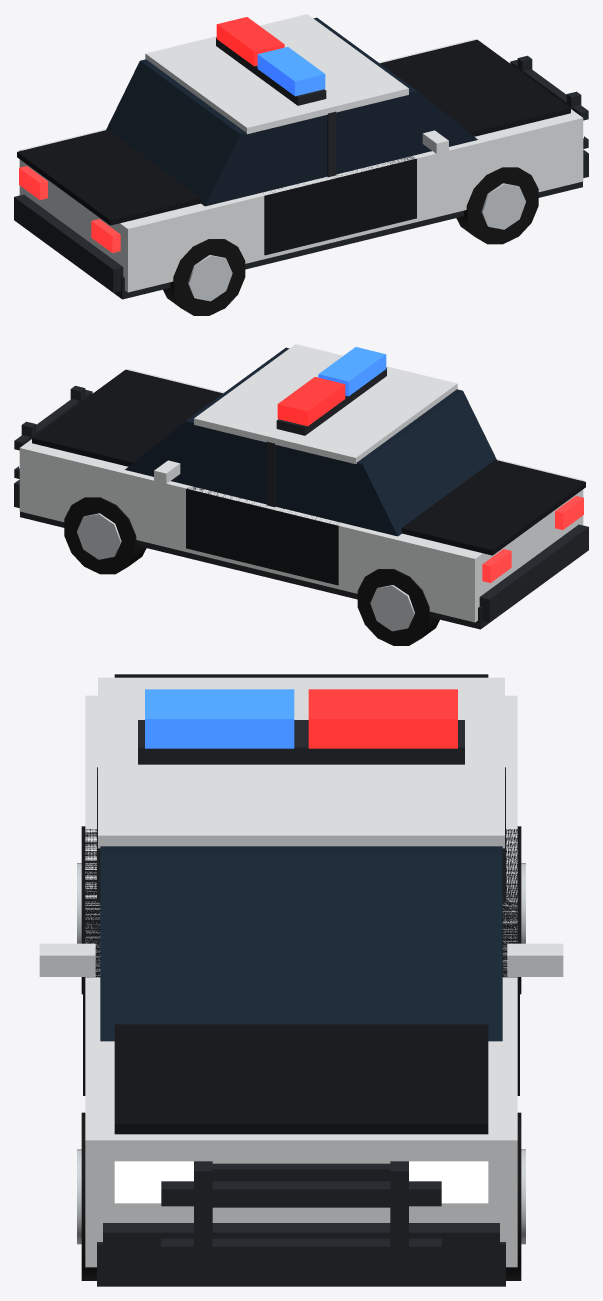
Rendered from police-cruiser.glb.
3 renders of one model, top to bottom at view 1: azimuth 30°, elevation 25°; view 2: azimuth 150°, elevation 25°; view 3: azimuth 270°, elevation 25°, orthographic. The views are drawn at different scales.
Parts seen in each view (by area): view 1: Cabin, Body, Roof, HoodPanel, TrunkPanel, DoorPanel, Wheel (×2), Lightbar, Bumper, Skirt, Police_Cruiser, Taillight (×2) (+1 smaller); view 2: Cabin, Body, Roof, HoodPanel, TrunkPanel, DoorPanel, Wheel (×2), Lightbar, Bumper, Skirt, Police_Cruiser, Taillight (×2) (+1 smaller); view 3: Cabin, Roof, HoodPanel, Body, Lightbar, Police_Cruiser, Bumper, Headlight (×2), DoorPanel, Grille, Skirt, Wheel (×2) (+1 smaller).
Boxes of the visible parts, x1,y1,x2,y2 form: Cabin: (106, 17, 477, 206); Body: (19, 39, 583, 292); Roof: (145, 14, 408, 134); HoodPanel: (380, 39, 570, 136); TrunkPanel: (17, 129, 201, 225); DoorPanel: (264, 156, 416, 255); Wheel (×2): (163, 167, 538, 315); Lightbar: (216, 17, 326, 105); Bumper: (14, 194, 123, 292); Skirt: (114, 181, 582, 299); Police_Cruiser: (422, 55, 588, 153); Taillight (×2): (19, 166, 120, 252); Cabin: (125, 347, 496, 536); Body: (19, 369, 583, 622); Roof: (194, 344, 457, 464); HoodPanel: (32, 369, 222, 466); TrunkPanel: (401, 459, 585, 555); DoorPanel: (186, 486, 338, 585); Wheel (×2): (64, 497, 439, 645); Lightbar: (276, 347, 386, 435); Bumper: (479, 524, 588, 622); Skirt: (20, 511, 488, 629); Police_Cruiser: (14, 385, 180, 483); Taillight (×2): (482, 496, 583, 582); Cabin: (100, 846, 502, 1041); Roof: (98, 677, 504, 848); HoodPanel: (114, 1024, 488, 1134); Body: (85, 695, 517, 1267); Lightbar: (138, 689, 464, 764); Police_Cruiser: (39, 943, 563, 1277); Bumper: (103, 1223, 499, 1279); Headlight (×2): (114, 1161, 488, 1203); DoorPanel: (83, 829, 519, 1095); Grille: (212, 1163, 390, 1207); Skirt: (97, 1242, 505, 1286); Wheel (×2): (77, 1112, 525, 1280).
Size of the model in its own units: 4.85 by 1.87 by 2.24.
